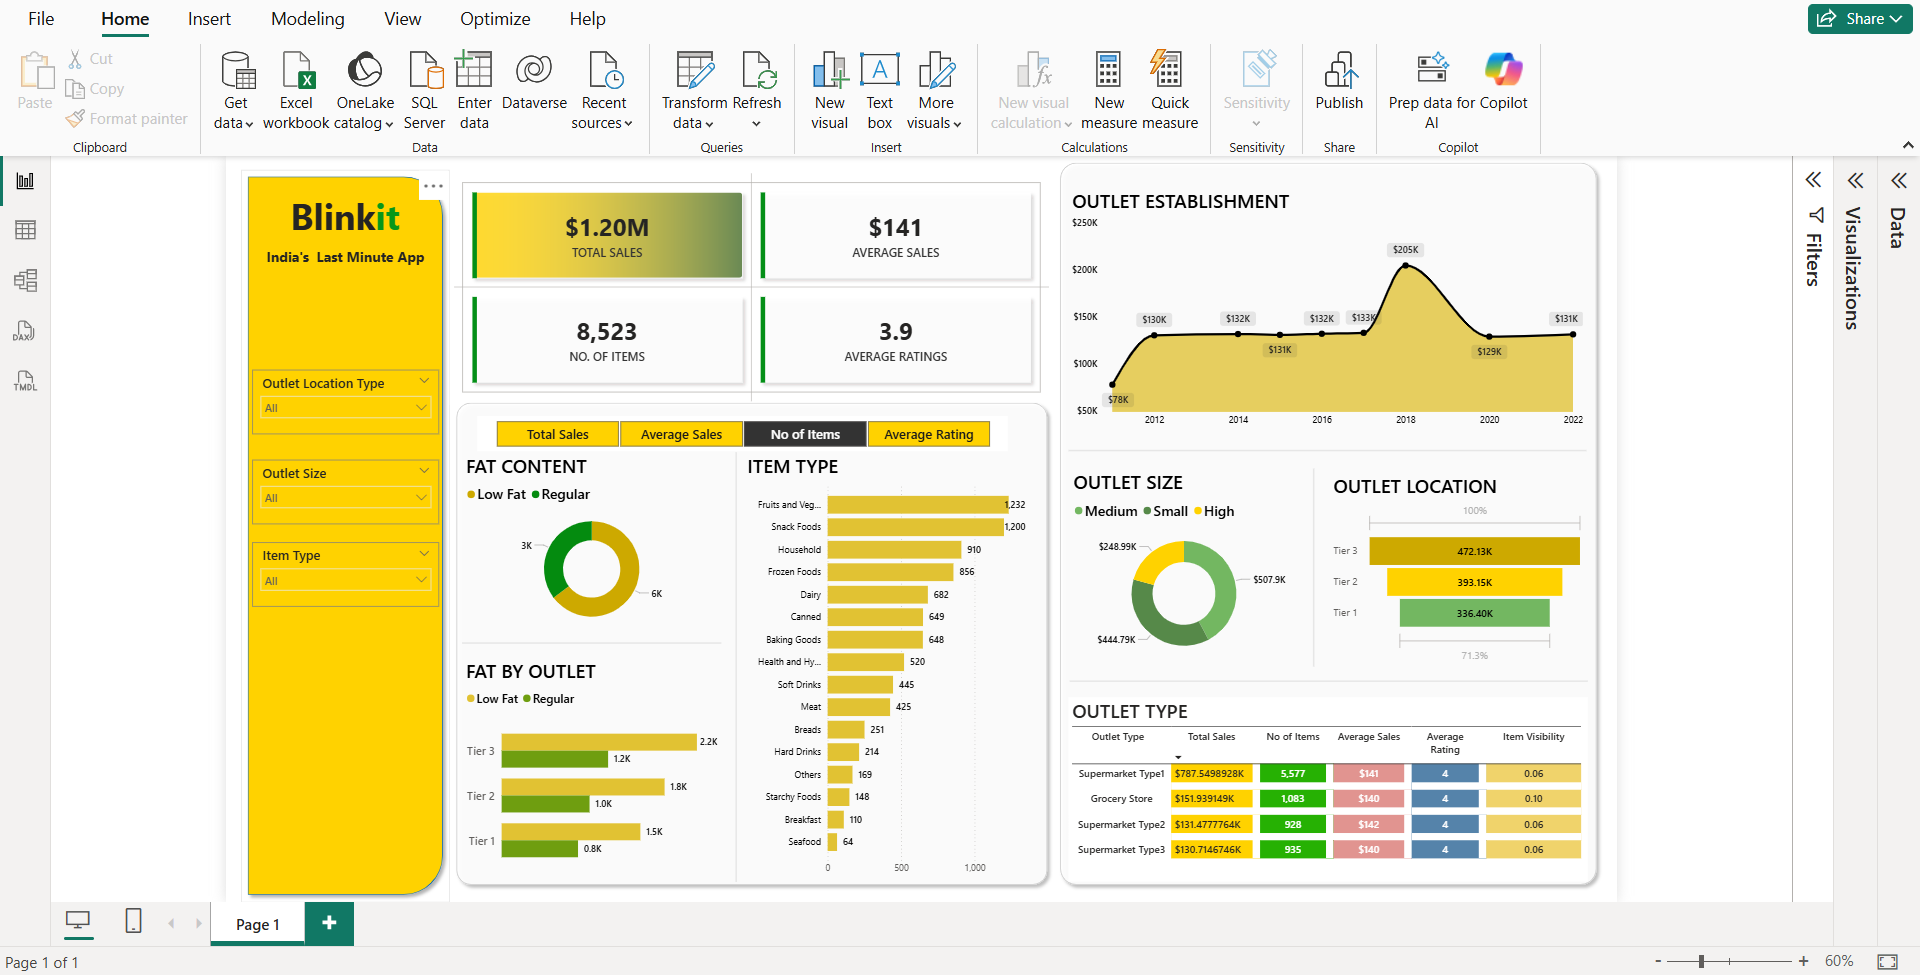

The dashboard page shown, as its layout file describes it:
{"tool":"powerbi","page":{"name":"Page 1","canvas":[1865,1000],"ordinal":0},"visuals":[{"type":"shape","box":[20.3,18.6,279.5,981],"z":0},{"type":"textbox","box":[58,42,201.9,76],"z":1000},{"type":"textbox","box":[36,118,249.9,46],"z":2000},{"type":"cardVisual","fields":{"Data":["BlinkIT Grocery Data.Total Sales","BlinkIT Grocery Data.Average Sales","BlinkIT Grocery Data.No of Items","BlinkIT Grocery Data.Aerage Rating"]},"box":[299.9,18.6,809.8,315.1],"z":3000},{"type":"shape","box":[299.9,321.9,809.8,664.1],"z":4000},{"type":"donutChart","title":"FAT CONTENT","fields":{"Y":["BlinkIT Grocery Data.No of Items"],"Category":["BlinkIT Grocery Data.Item Fat Content"]},"box":[316.8,396.4,347.3,244],"z":5000},{"type":"slicer","fields":{"Values":["Metrics.Metrics"]},"box":[337.2,349,711.6,47.4],"z":6000},{"type":"clusteredBarChart","title":"FAT BY OUTLET","fields":{"Y":["BlinkIT Grocery Data.No of Items"],"Category":["BlinkIT Grocery Data.Outlet Location Type"],"Series":["BlinkIT Grocery Data.Item Fat Content"]},"box":[316.8,672.6,347.3,299.9],"z":7000},{"type":"shape","box":[664.1,396.4,40.7,576],"z":8000},{"type":"shape","box":[316.8,630.3,347.3,45.7],"z":9000},{"type":"barChart","title":"ITEM TYPE","fields":{"Y":["BlinkIT Grocery Data.No of Items"],"Category":["BlinkIT Grocery Data.Item Type"]},"box":[692.9,396.4,398.1,576],"z":10000},{"type":"shape","box":[1109.7,0,737,986],"z":11000},{"type":"lineChart","title":"OUTLET ESTABLISHMENT","fields":{"Y":["BlinkIT Grocery Data.Total Sales"],"Category":["BlinkIT Grocery Data.Outlet Establishment Year"]},"box":[1130,42.4,694.6,330.4],"z":12000},{"type":"shape","box":[1130,372.7,694.6,45.7],"z":13000},{"type":"donutChart","title":"OUTLET SIZE","fields":{"Y":["BlinkIT Grocery Data.Total Sales"],"Category":["BlinkIT Grocery Data.Outlet Size"]},"box":[1131.7,418.5,306.7,266],"z":14000},{"type":"shape","box":[1438.4,418.5,40.7,266],"z":15000},{"type":"funnel","title":"OUTLET LOCATION","fields":{"Category":["BlinkIT Grocery Data.Outlet Location Type"],"Y":["Sum(BlinkIT Grocery Data.Sales)"]},"box":[1479.1,423.6,345.6,260.9],"z":16000},{"type":"shape","box":[1131.7,684.5,694.6,40.7],"z":17000},{"type":"pivotTable","title":"OUTLET TYPE","fields":{"Rows":["BlinkIT Grocery Data.Outlet Type"],"Values":["BlinkIT Grocery Data.Total Sales","BlinkIT Grocery Data.No of Items","BlinkIT Grocery Data.Average Sales","BlinkIT Grocery Data.Average Rating","Avg(BlinkIT Grocery Data.Item Visibility)"]},"box":[1130,725.1,696.3,247.4],"z":18000},{"type":"slicer","fields":{"Values":["BlinkIT Grocery Data.Outlet Location Type"]},"box":[35.6,286.3,250.7,86.4],"z":18001},{"type":"slicer","fields":{"Values":["BlinkIT Grocery Data.Outlet Size"]},"box":[35.6,406.6,250.7,86.4],"z":18002},{"type":"slicer","fields":{"Values":["BlinkIT Grocery Data.Item Type"]},"box":[35.6,518.4,250.7,86.4],"z":18003}]}

Visuals, with their boxes on the page's 1865x1000 design canvas (x1, y1, x2, y2). These are canvas units, not pixel positions in the 1920x975 screenshot, which may show the page scaled, cropped or inside an application window:
shape: Rect(20, 19, 300, 1000)
textbox: Rect(58, 42, 260, 118)
textbox: Rect(36, 118, 286, 164)
cardVisual - BlinkIT Grocery Data.Total Sales x BlinkIT Grocery Data.Average Sales: Rect(300, 19, 1110, 334)
shape: Rect(300, 322, 1110, 986)
"FAT CONTENT" donutChart: Rect(317, 396, 664, 640)
slicer - Metrics.Metrics: Rect(337, 349, 1049, 396)
"FAT BY OUTLET" clusteredBarChart: Rect(317, 673, 664, 972)
shape: Rect(664, 396, 705, 972)
shape: Rect(317, 630, 664, 676)
"ITEM TYPE" barChart: Rect(693, 396, 1091, 972)
shape: Rect(1110, 0, 1847, 986)
"OUTLET ESTABLISHMENT" lineChart: Rect(1130, 42, 1825, 373)
shape: Rect(1130, 373, 1825, 418)
"OUTLET SIZE" donutChart: Rect(1132, 418, 1438, 684)
shape: Rect(1438, 418, 1479, 684)
"OUTLET LOCATION" funnel: Rect(1479, 424, 1825, 684)
shape: Rect(1132, 684, 1826, 725)
"OUTLET TYPE" pivotTable: Rect(1130, 725, 1826, 972)
slicer - BlinkIT Grocery Data.Outlet Location Type: Rect(36, 286, 286, 373)
slicer - BlinkIT Grocery Data.Outlet Size: Rect(36, 407, 286, 493)
slicer - BlinkIT Grocery Data.Item Type: Rect(36, 518, 286, 605)
